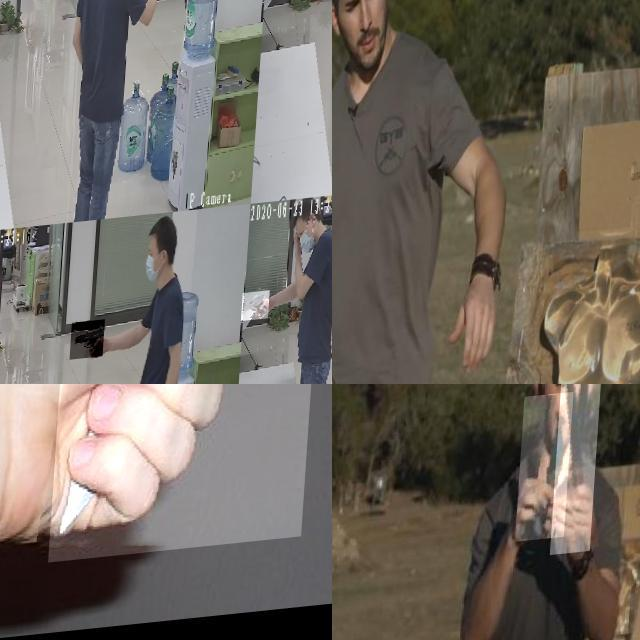-: (56, 384, 332, 640), (553, 384, 604, 562), (519, 399, 575, 548), (332, 266, 374, 330)
gun-knife-thesis - v11 Yolov5 augmented: (76, 323, 111, 363), (248, 298, 276, 328), (152, 0, 179, 23)
